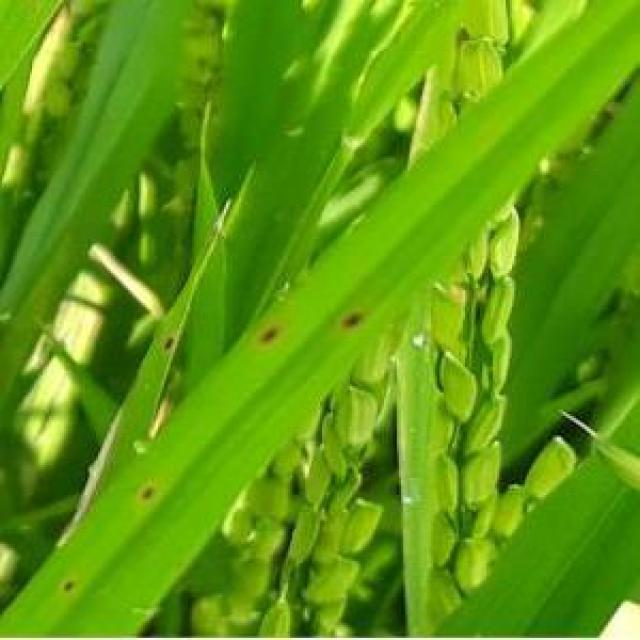Brown_Spot: (335, 303, 371, 339), (250, 320, 288, 347), (56, 566, 80, 603), (153, 330, 182, 358), (137, 478, 165, 503)
